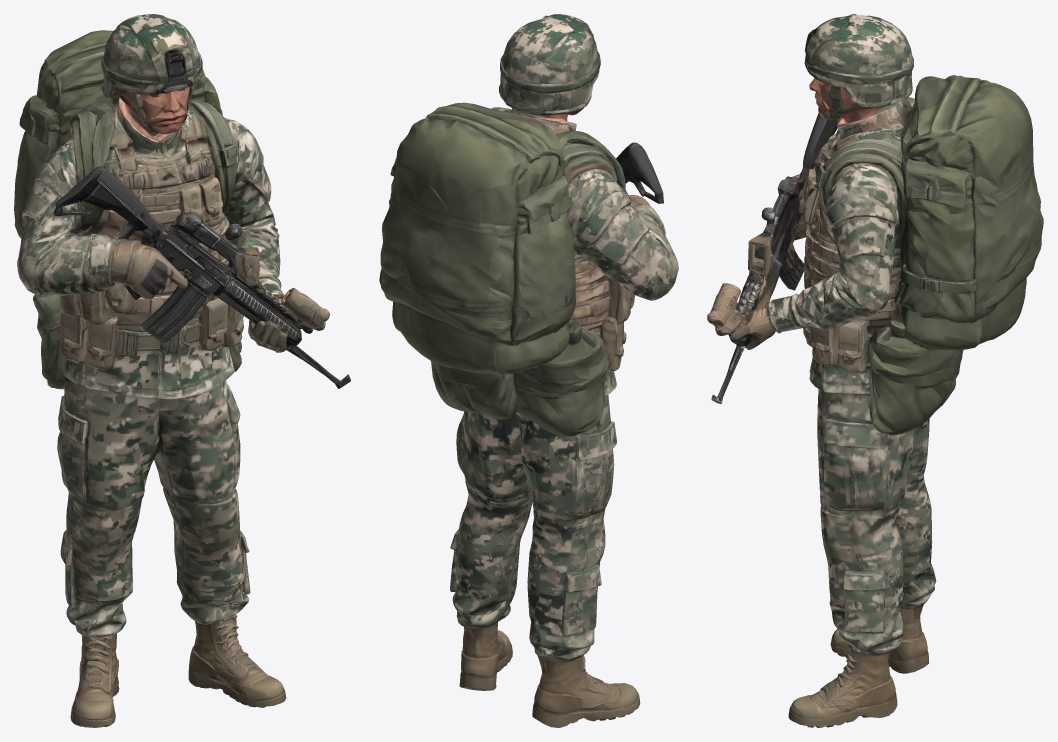
File: soldier.glb
The picture shows the model from 3 angles, left to right: view 1: azimuth 30°, elevation 25°; view 2: azimuth 150°, elevation 25°; view 3: azimuth 270°, elevation 25°; orthographic projection. The views are drawn at different scales.
Size of the model in its own units: 0.7297 by 1.9 by 0.8736.
1 material, 1 textured.
